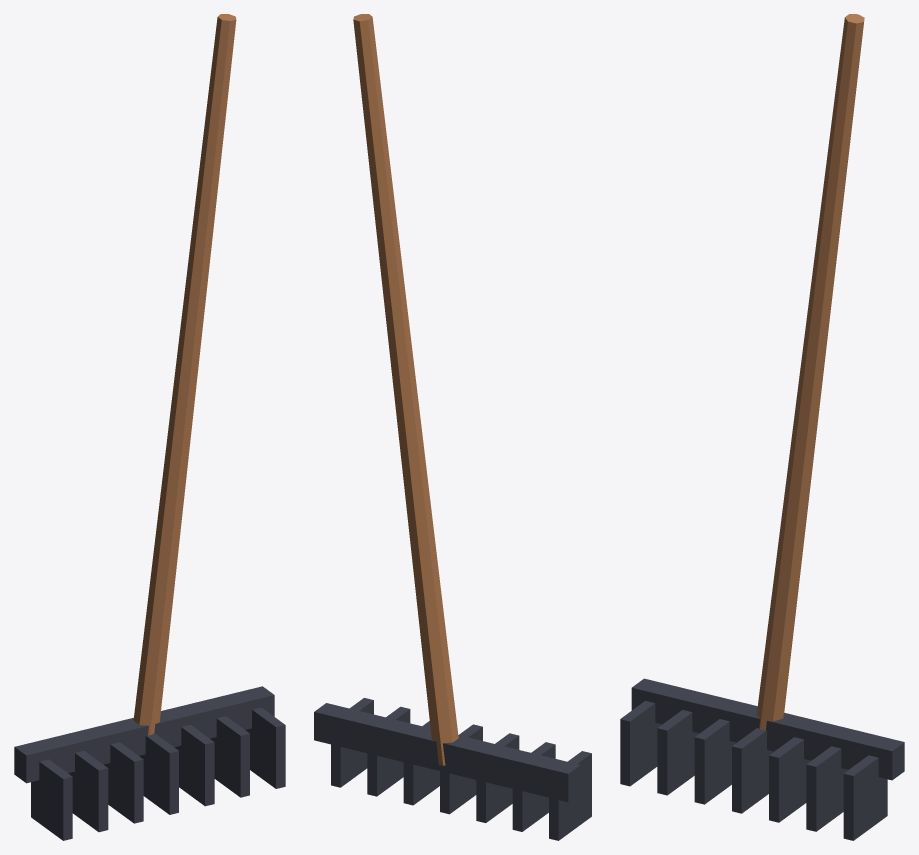
The model's file is turning-seasons-garden-rake-ae10f659__2144.glb.
3 views of the same model, side by side, from view 1: azimuth 30°, elevation 25°; view 2: azimuth 150°, elevation 25°; view 3: azimuth 330°, elevation 25° (orthographic). The views are drawn at different scales.
Parts seen in each view (by area): view 1: garden-rake; view 2: garden-rake; view 3: garden-rake.
Boxes of the visible parts, x1,y1,x2,y2 form: garden-rake: (14, 14, 285, 840); garden-rake: (314, 14, 591, 840); garden-rake: (620, 14, 904, 840).
Size of the model in its own units: 0.42 by 1.22 by 0.107.
